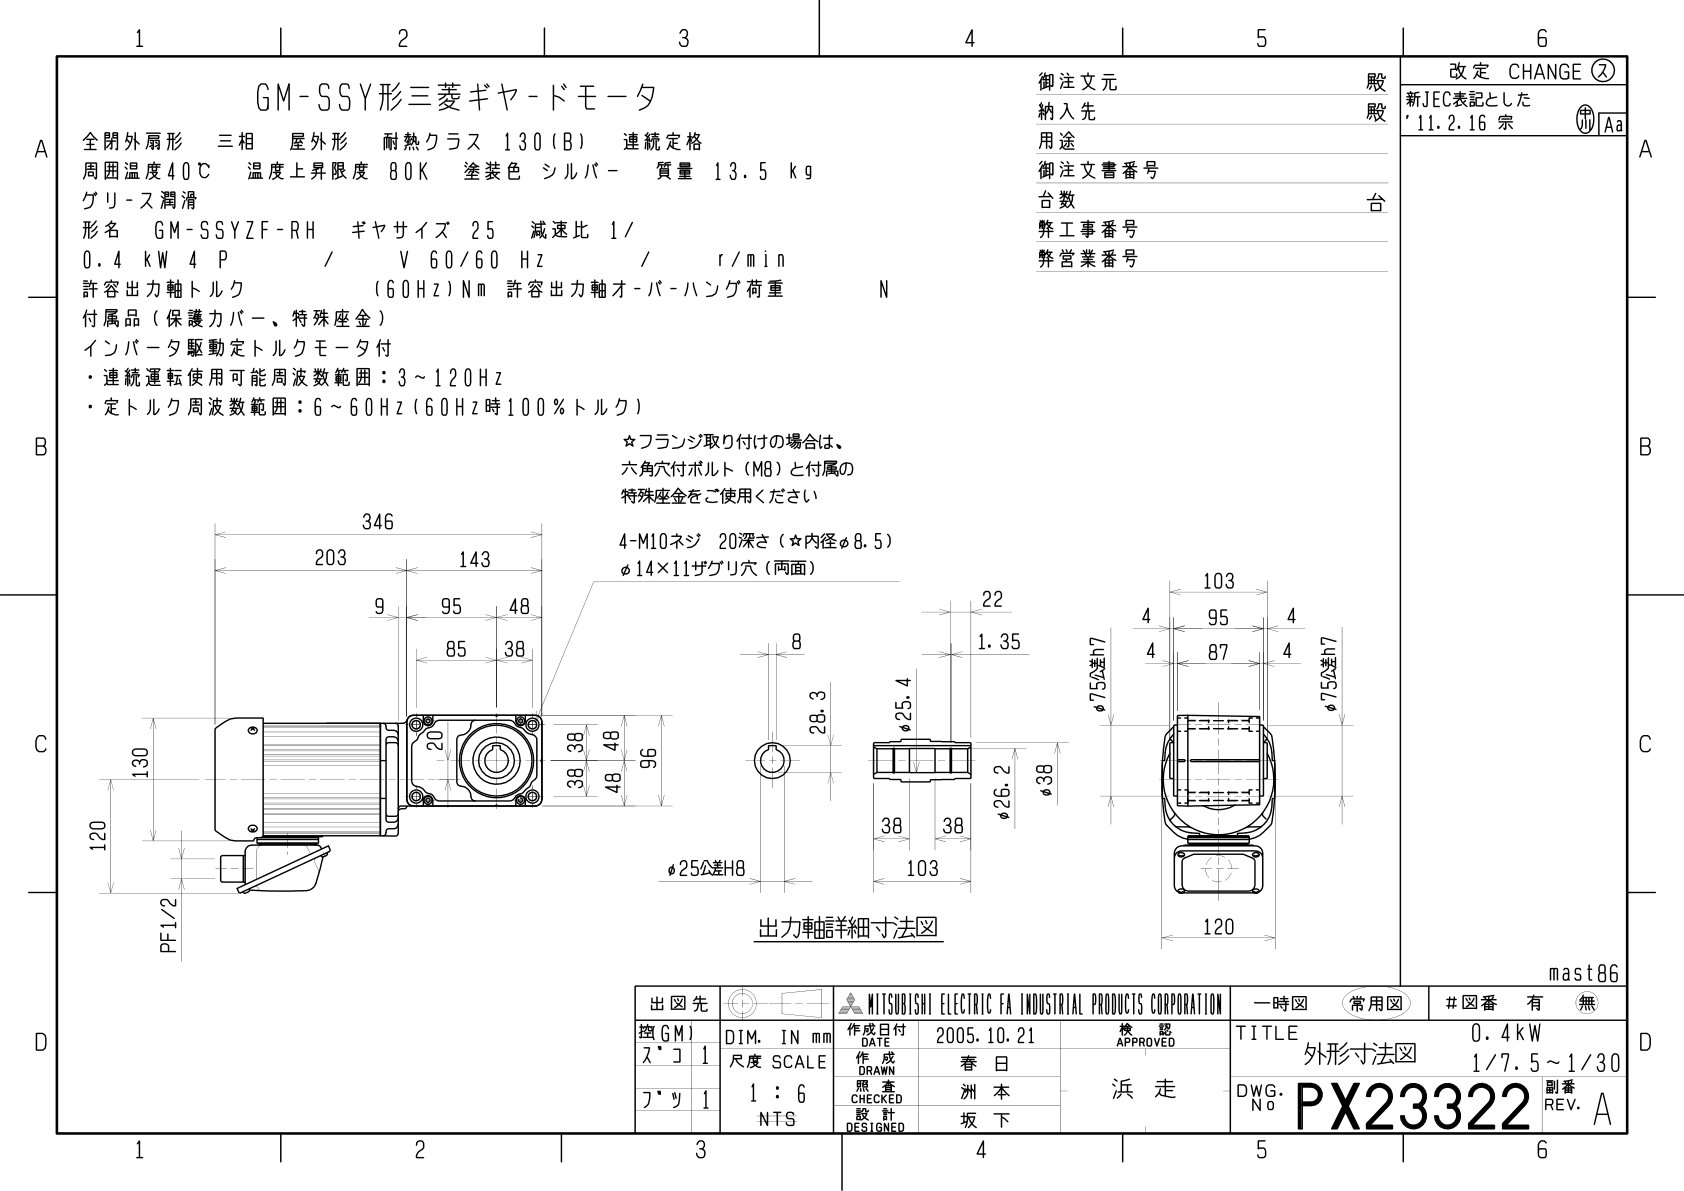GM_SSY_インバータ屋外_三相: (6, 6, 1684, 1191)
